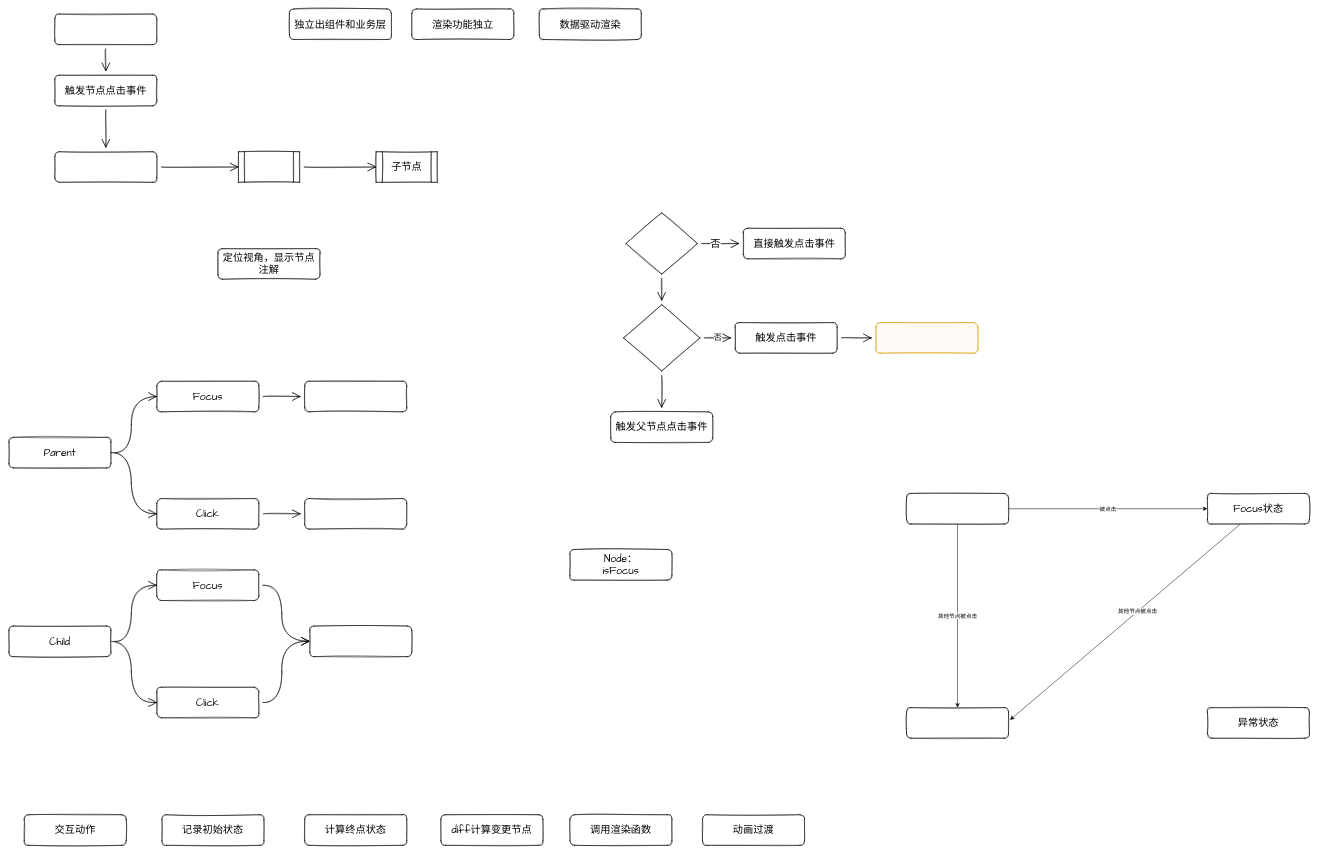
Some shapes in this 1318 by 854 pixel diagram are drawn without their labels. The shapes that lost their labels are listed below. From the top down, each one's centre as x and y in pixels, then its label:
(x=105, y=29): 用户点击
(x=105, y=166): 节点类型
(x=269, y=166): 父节点
(x=661, y=243): 是否是子节点
(x=661, y=337): 是否为父节点聚焦操作
(x=926, y=337): 兄弟节点切换为散开的Transform
(x=355, y=396): 不散开
(x=355, y=513): 散开子节点
(x=957, y=508): Normal状态
(x=360, y=641): 散开，除了当前节点外，其他节点透明
(x=957, y=722): 透明状态
